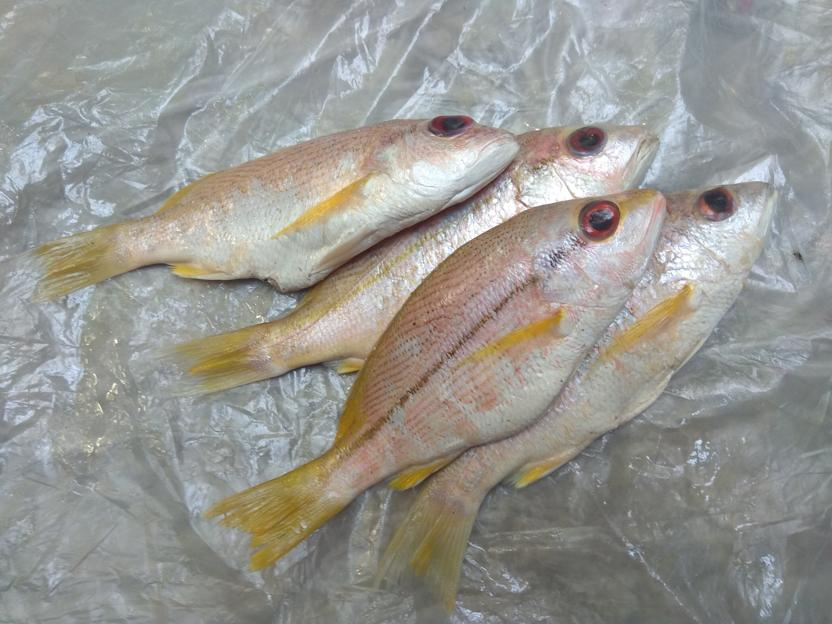Fish head: (538, 189, 667, 310), (375, 113, 521, 206), (661, 181, 778, 286), (522, 122, 660, 206)
Fish tail: (206, 453, 352, 572), (371, 481, 495, 614), (162, 319, 279, 397), (30, 221, 130, 311)
